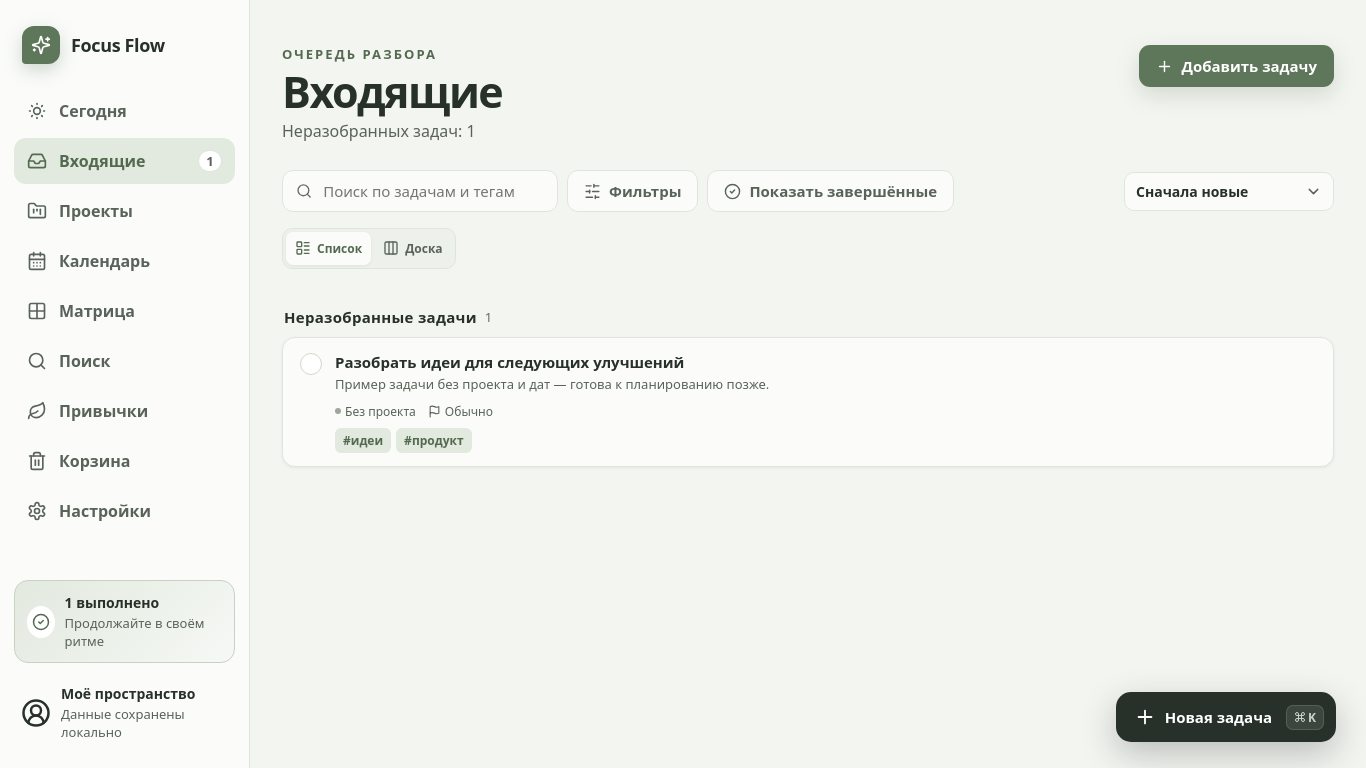
Test: task lifecycle › offers an immediate undo after completing a task from the inbox
The width and height of the screenshot is (1366, 768).
Check: the heading "Входящие" is shown, box [282,70,502,113]
Click the button named "Завершить задачу Разобрать идеи для следующих улучшений" at (311, 364), box [289,342,333,386]
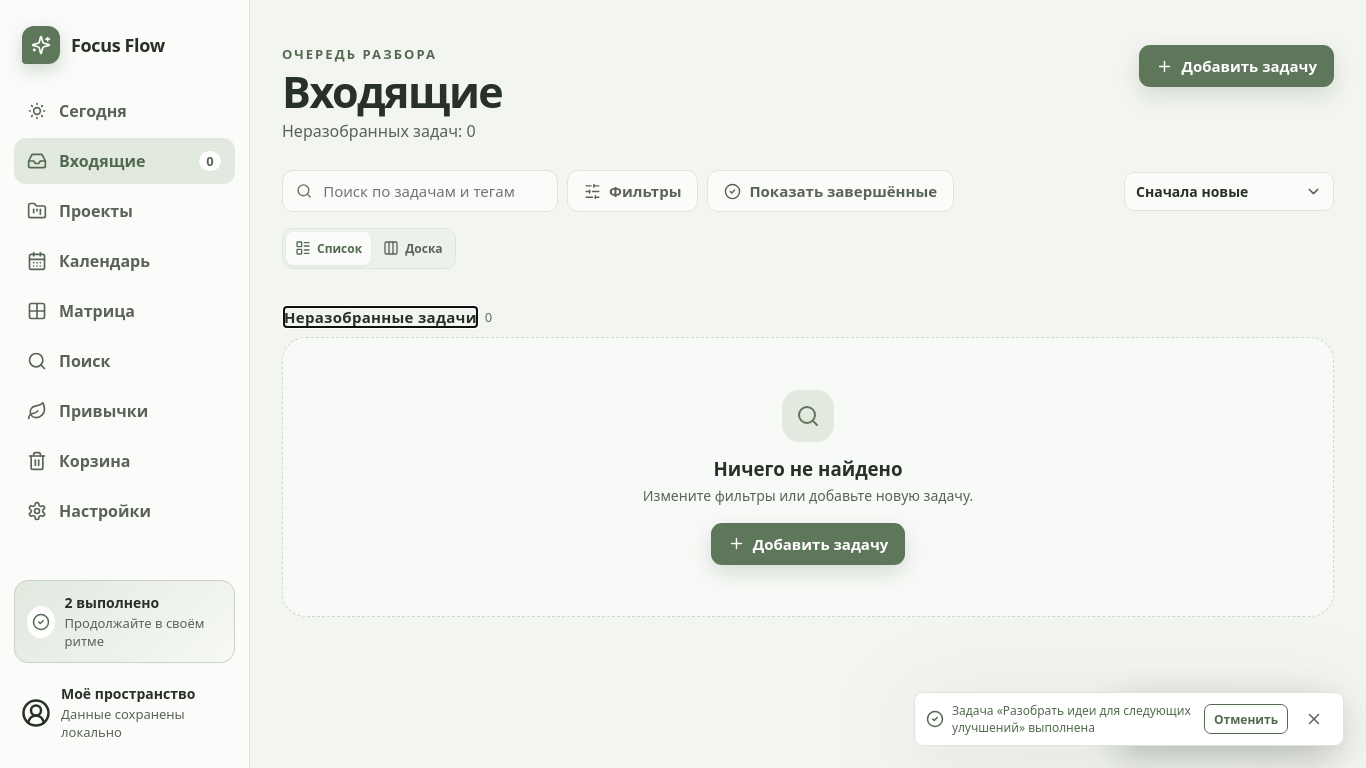
Check: the message shows "Задача «Разобрать идеи для следующих улучшений» выполнена", box [914,692,1344,746]
Click the button "Отменить" at (1246, 719), box [1204,704,1288,734]
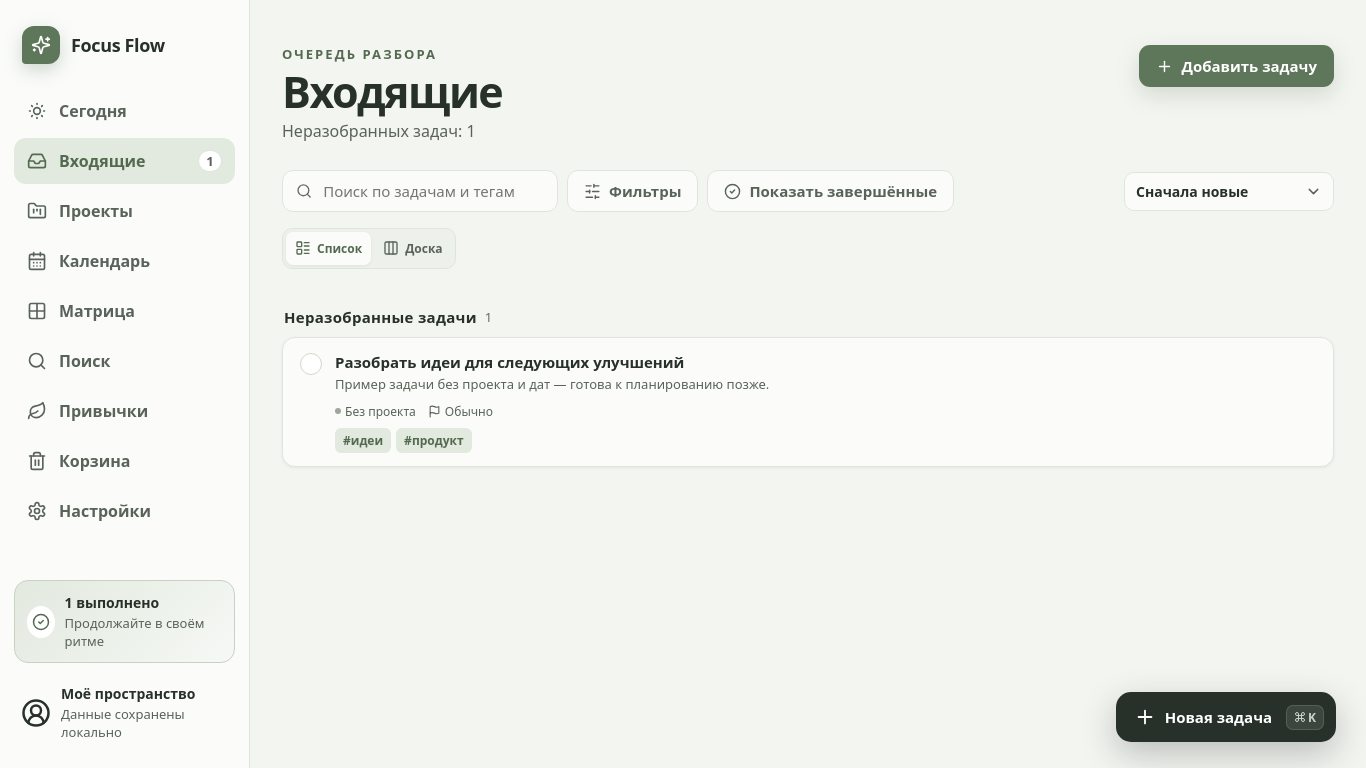
Check: the button named "Завершить задачу Разобрать идеи для следующих улучшений" is shown, box [289,342,333,386]
